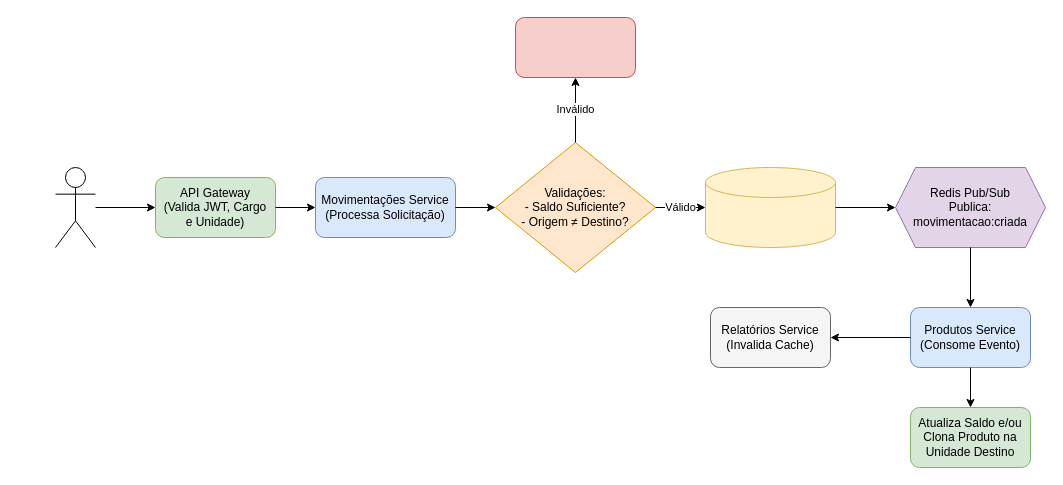
This 1063x485 diagram has some shape labels left out. Here are the shapes that lost their labels. From the top down, the centre of each, then its label:
the point at 575,47: Erro 400: Rejeita Operação
the point at 75,207: Usuário (Estoquista / Gerente)
the point at 770,207: Banco PostgreSQL (Grava Movimentação)
